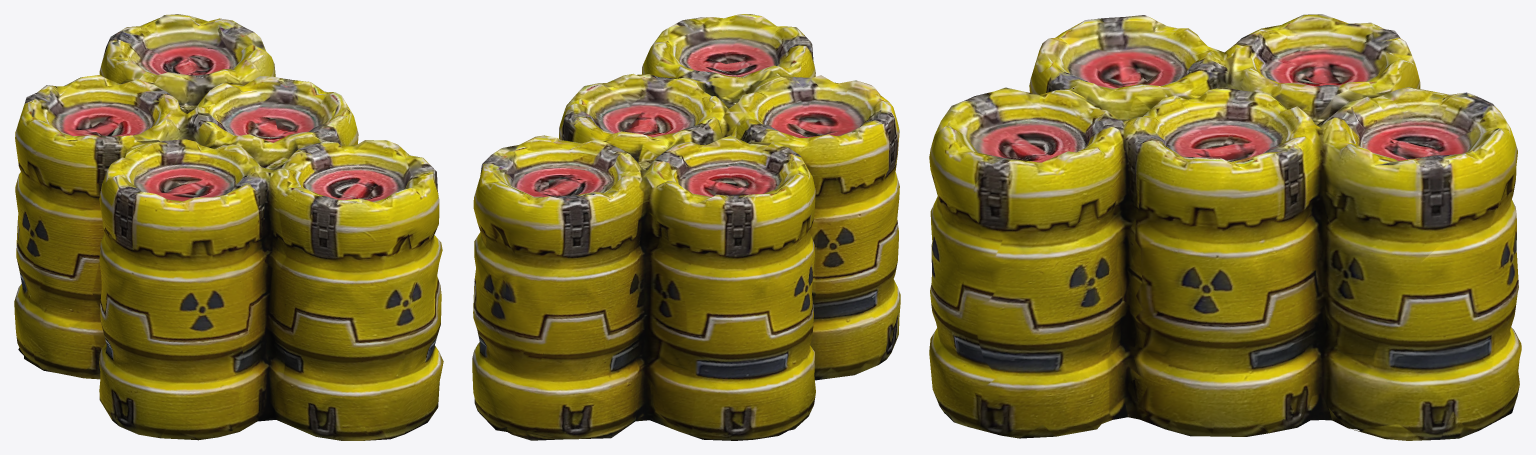
File: barrels-size-2-2.glb
3 renders of one model, left to right at view 1: azimuth 30°, elevation 25°; view 2: azimuth 150°, elevation 25°; view 3: azimuth 270°, elevation 25°, orthographic. The views are drawn at different scales.
Parts seen in each view (by area): view 1: Military_supplies_4; view 2: Military_supplies_4; view 3: Military_supplies_4.
Boxes of the visible parts, bbox=[...] form: Military_supplies_4: bbox=[14, 14, 443, 440]; Military_supplies_4: bbox=[472, 14, 900, 440]; Military_supplies_4: bbox=[929, 14, 1521, 440].
Size of the model in its own units: 1.65 by 1.36 by 2.62.
1 material, 1 textured.
